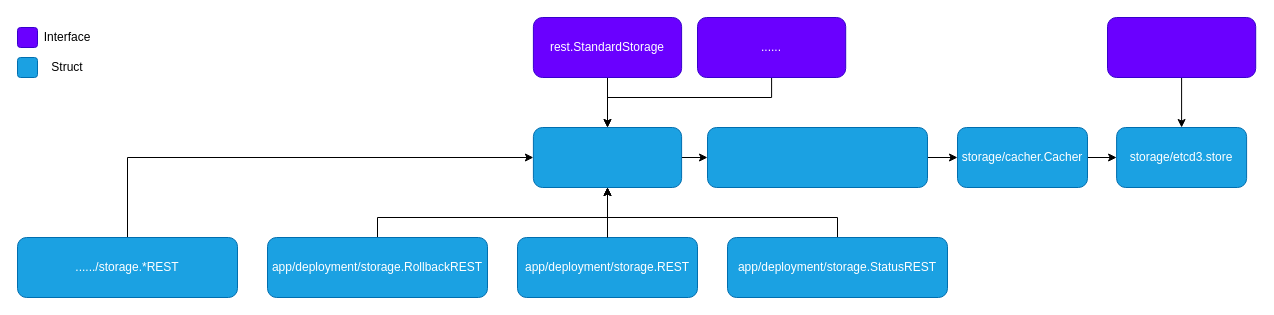
Some shapes in this 1274 by 315 pixel diagram are drawn without their labels. The box of each missing label's shape, as (x1, y1, x2, y2) in pixels:
generic/registry.DryRunnableStorage: (706, 126, 928, 188)
generic/registry.Store: (532, 126, 682, 188)
storage.Interface: (1106, 16, 1256, 78)
